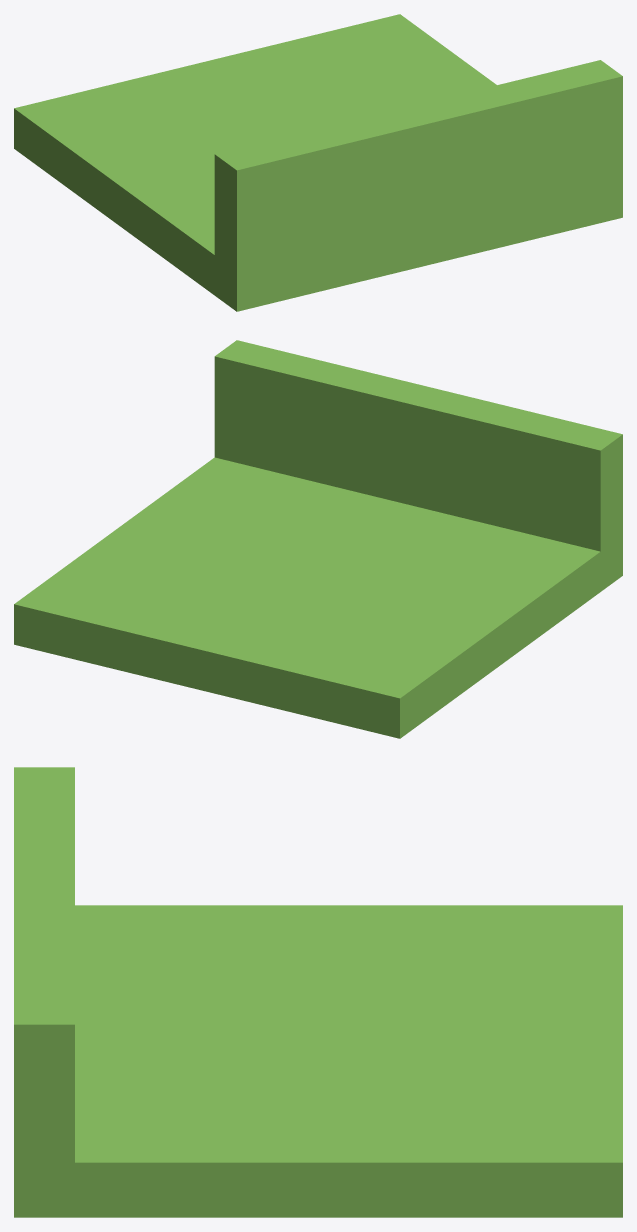
File: LimeRoof_1Edge_Small.glb
The picture shows the model from 3 angles, top to bottom: view 1: azimuth 30°, elevation 25°; view 2: azimuth 150°, elevation 25°; view 3: azimuth 270°, elevation 25°; orthographic projection. The views are drawn at different scales.
Visible parts, largest first — view 1: roof_flat_1Edges_small_lime; view 2: roof_flat_1Edges_small_lime; view 3: roof_flat_1Edges_small_lime.
Part boxes in pixels (x1=…): roof_flat_1Edges_small_lime: x1=14, y1=14, x2=622, y2=311; roof_flat_1Edges_small_lime: x1=14, y1=340, x2=622, y2=738; roof_flat_1Edges_small_lime: x1=14, y1=767, x2=622, y2=1217.
Size of what is drawn, in the model's own units: 2 by 0.7 by 2.
1 material, 1 textured.
